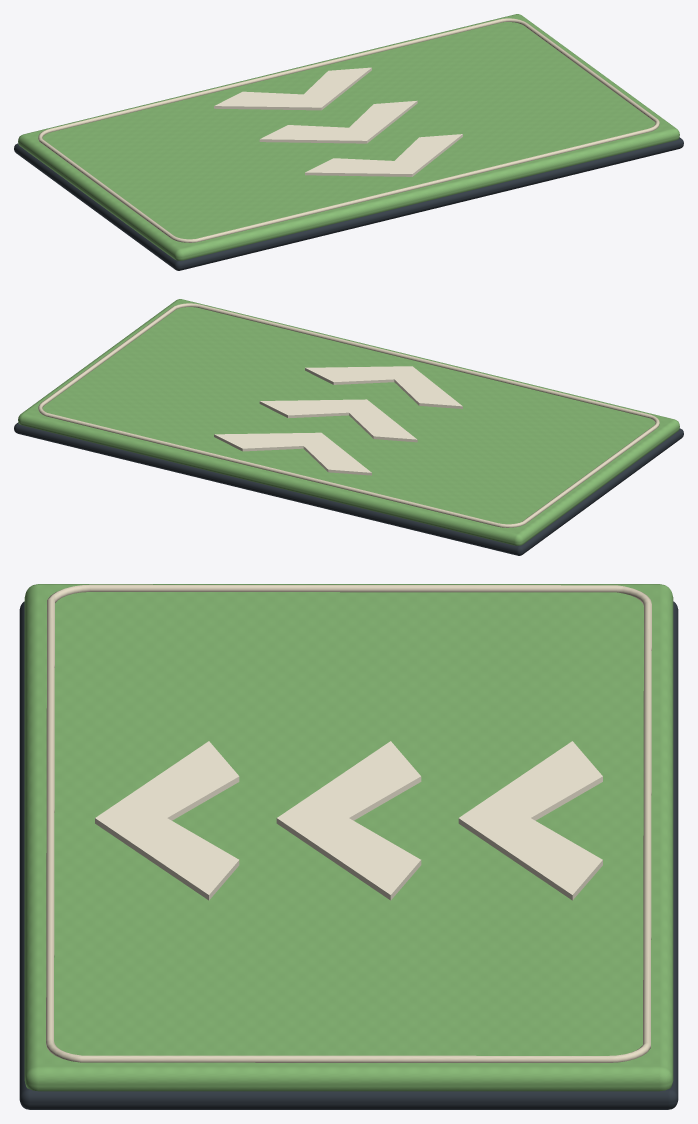
The picture shows the model from 3 angles, top to bottom: view 1: azimuth 30°, elevation 25°; view 2: azimuth 150°, elevation 25°; view 3: azimuth 270°, elevation 25°; orthographic projection. The views are drawn at different scales.
Parts seen in each view (by area): view 1: MAT; view 2: MAT; view 3: MAT.
Boxes of the visible parts, x1,y1,x2,y2 form: MAT: (14,14,683,270); MAT: (14,299,683,555); MAT: (19,584,678,1109).
Bounding box in the file's own units: 1.16 × 0.051 × 0.65.
Materials: 4 (2 with a texture image).
